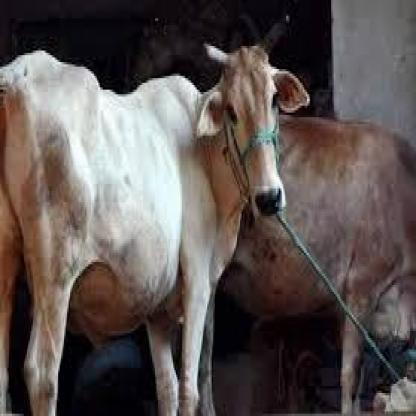cow: (0, 14, 310, 416), (203, 112, 416, 416)
